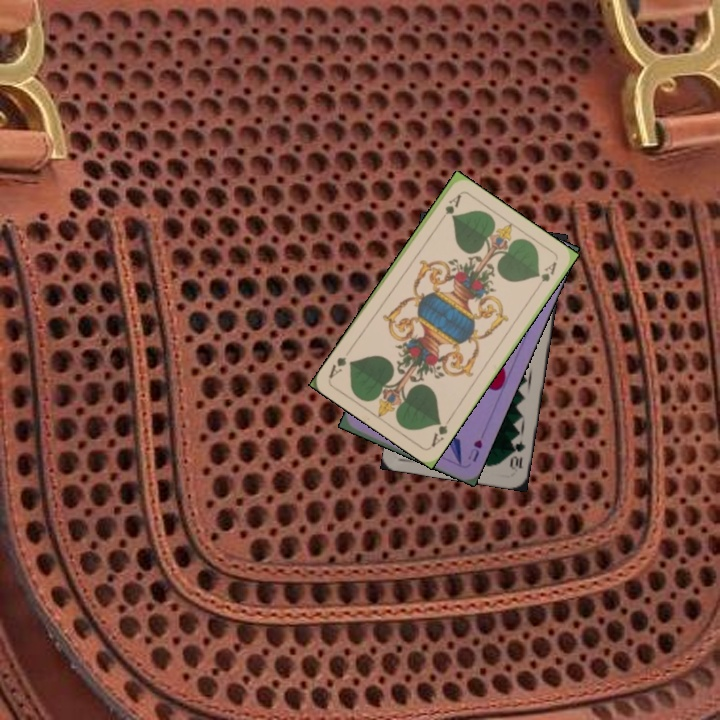G10: (506, 436, 528, 474)
GA: (434, 190, 464, 226), (427, 413, 454, 450)
HU: (464, 435, 485, 465)
